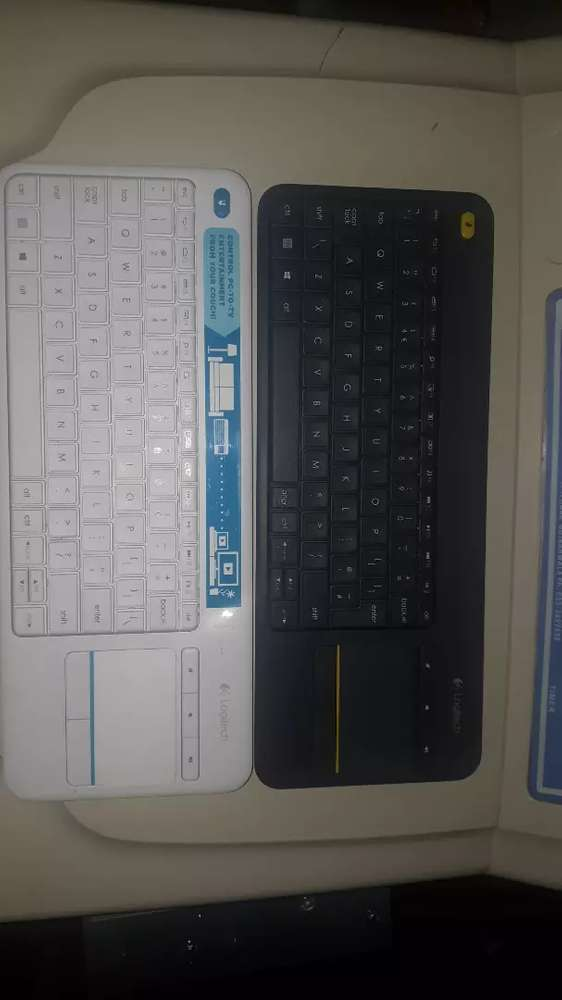logitech-keyboard-k400: (258, 196, 502, 798)
